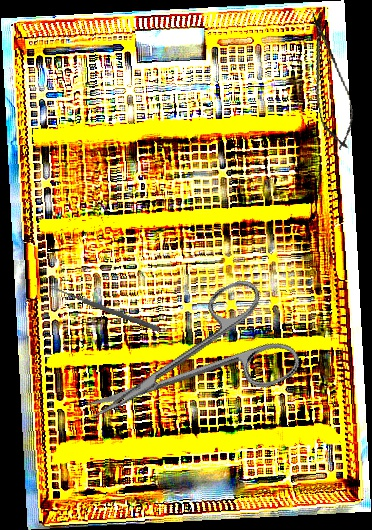Iris Scissors: (64, 270, 305, 459)
Micro Scissor: (298, 6, 361, 155)
Surgical Spoon: (48, 284, 161, 332)
